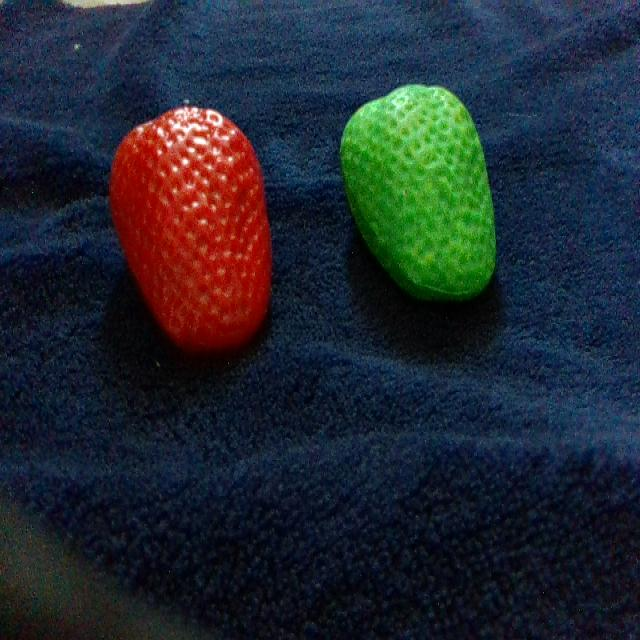grande_roja: (110, 109, 271, 351)
verde: (341, 87, 495, 299)
